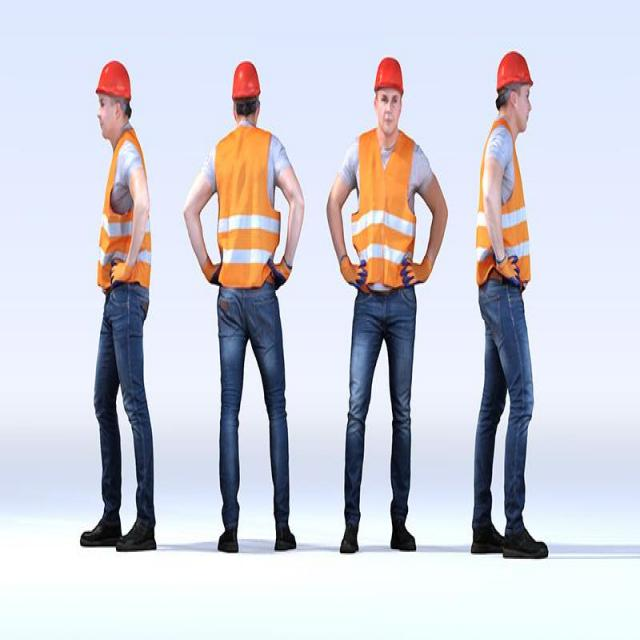Reflective-Jacket: (211, 127, 279, 293), (352, 130, 419, 294), (472, 118, 534, 287), (95, 132, 155, 293)
Safety-Helmet: (92, 56, 134, 106), (493, 48, 535, 96), (371, 52, 406, 96), (230, 57, 262, 104)
